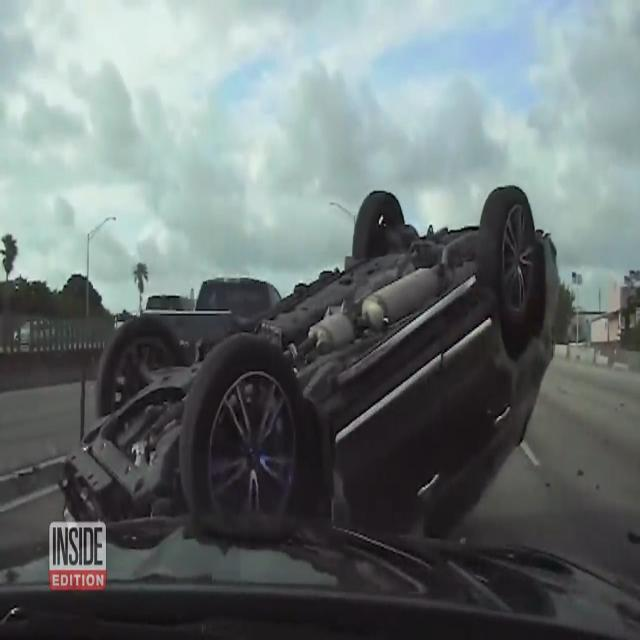accident: (81, 171, 558, 545)
